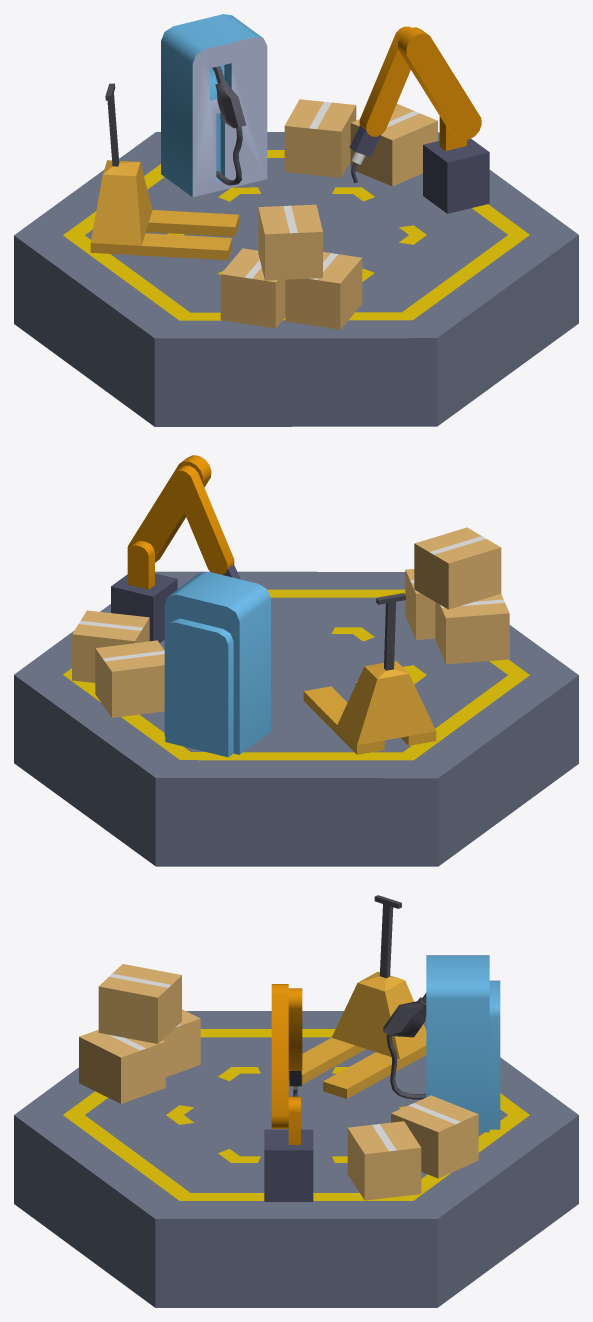
File: RockHex_04.fbx
3 renders of one model, top to bottom at view 1: azimuth 30°, elevation 25°; view 2: azimuth 150°, elevation 25°; view 3: azimuth 270°, elevation 25°, orthographic.
Visible parts, largest first — view 1: RockHex_04; view 2: RockHex_04; view 3: RockHex_04.
Boxes of the visible parts, x1,y1,x2,y2 form: RockHex_04: (14,14,578,426); RockHex_04: (14,455,578,866); RockHex_04: (14,895,578,1307).
Bounding box in the file's own units: 1 × 0.615 × 1.15.
